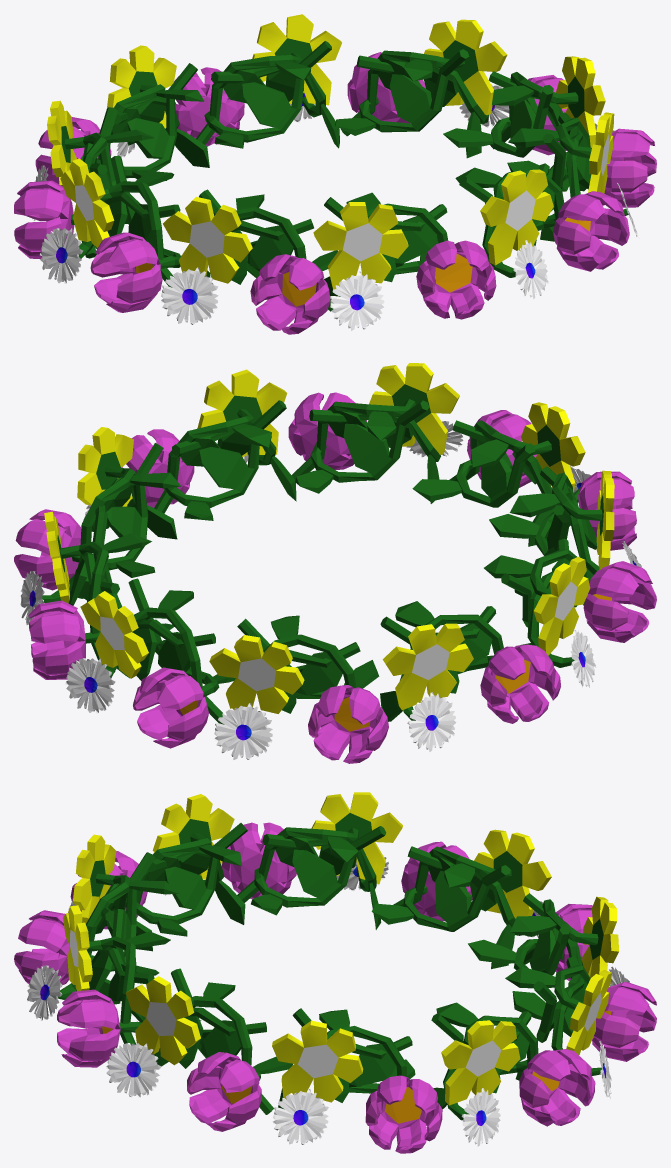
The model's file is Flower Crown.fbx.
3 renders of one model, top to bottom at view 1: azimuth 30°, elevation 25°; view 2: azimuth 150°, elevation 25°; view 3: azimuth 270°, elevation 25°, orthographic.
Visible parts, largest first — view 1: Cube; view 2: Cube; view 3: Cube.
Part boxes in pixels (x1,y1,x2,y2): Cube: (14, 14, 656, 334); Cube: (14, 363, 656, 763); Cube: (14, 792, 656, 1153).
Size of the model in its own units: 29.14 by 8.57 by 30.38.
